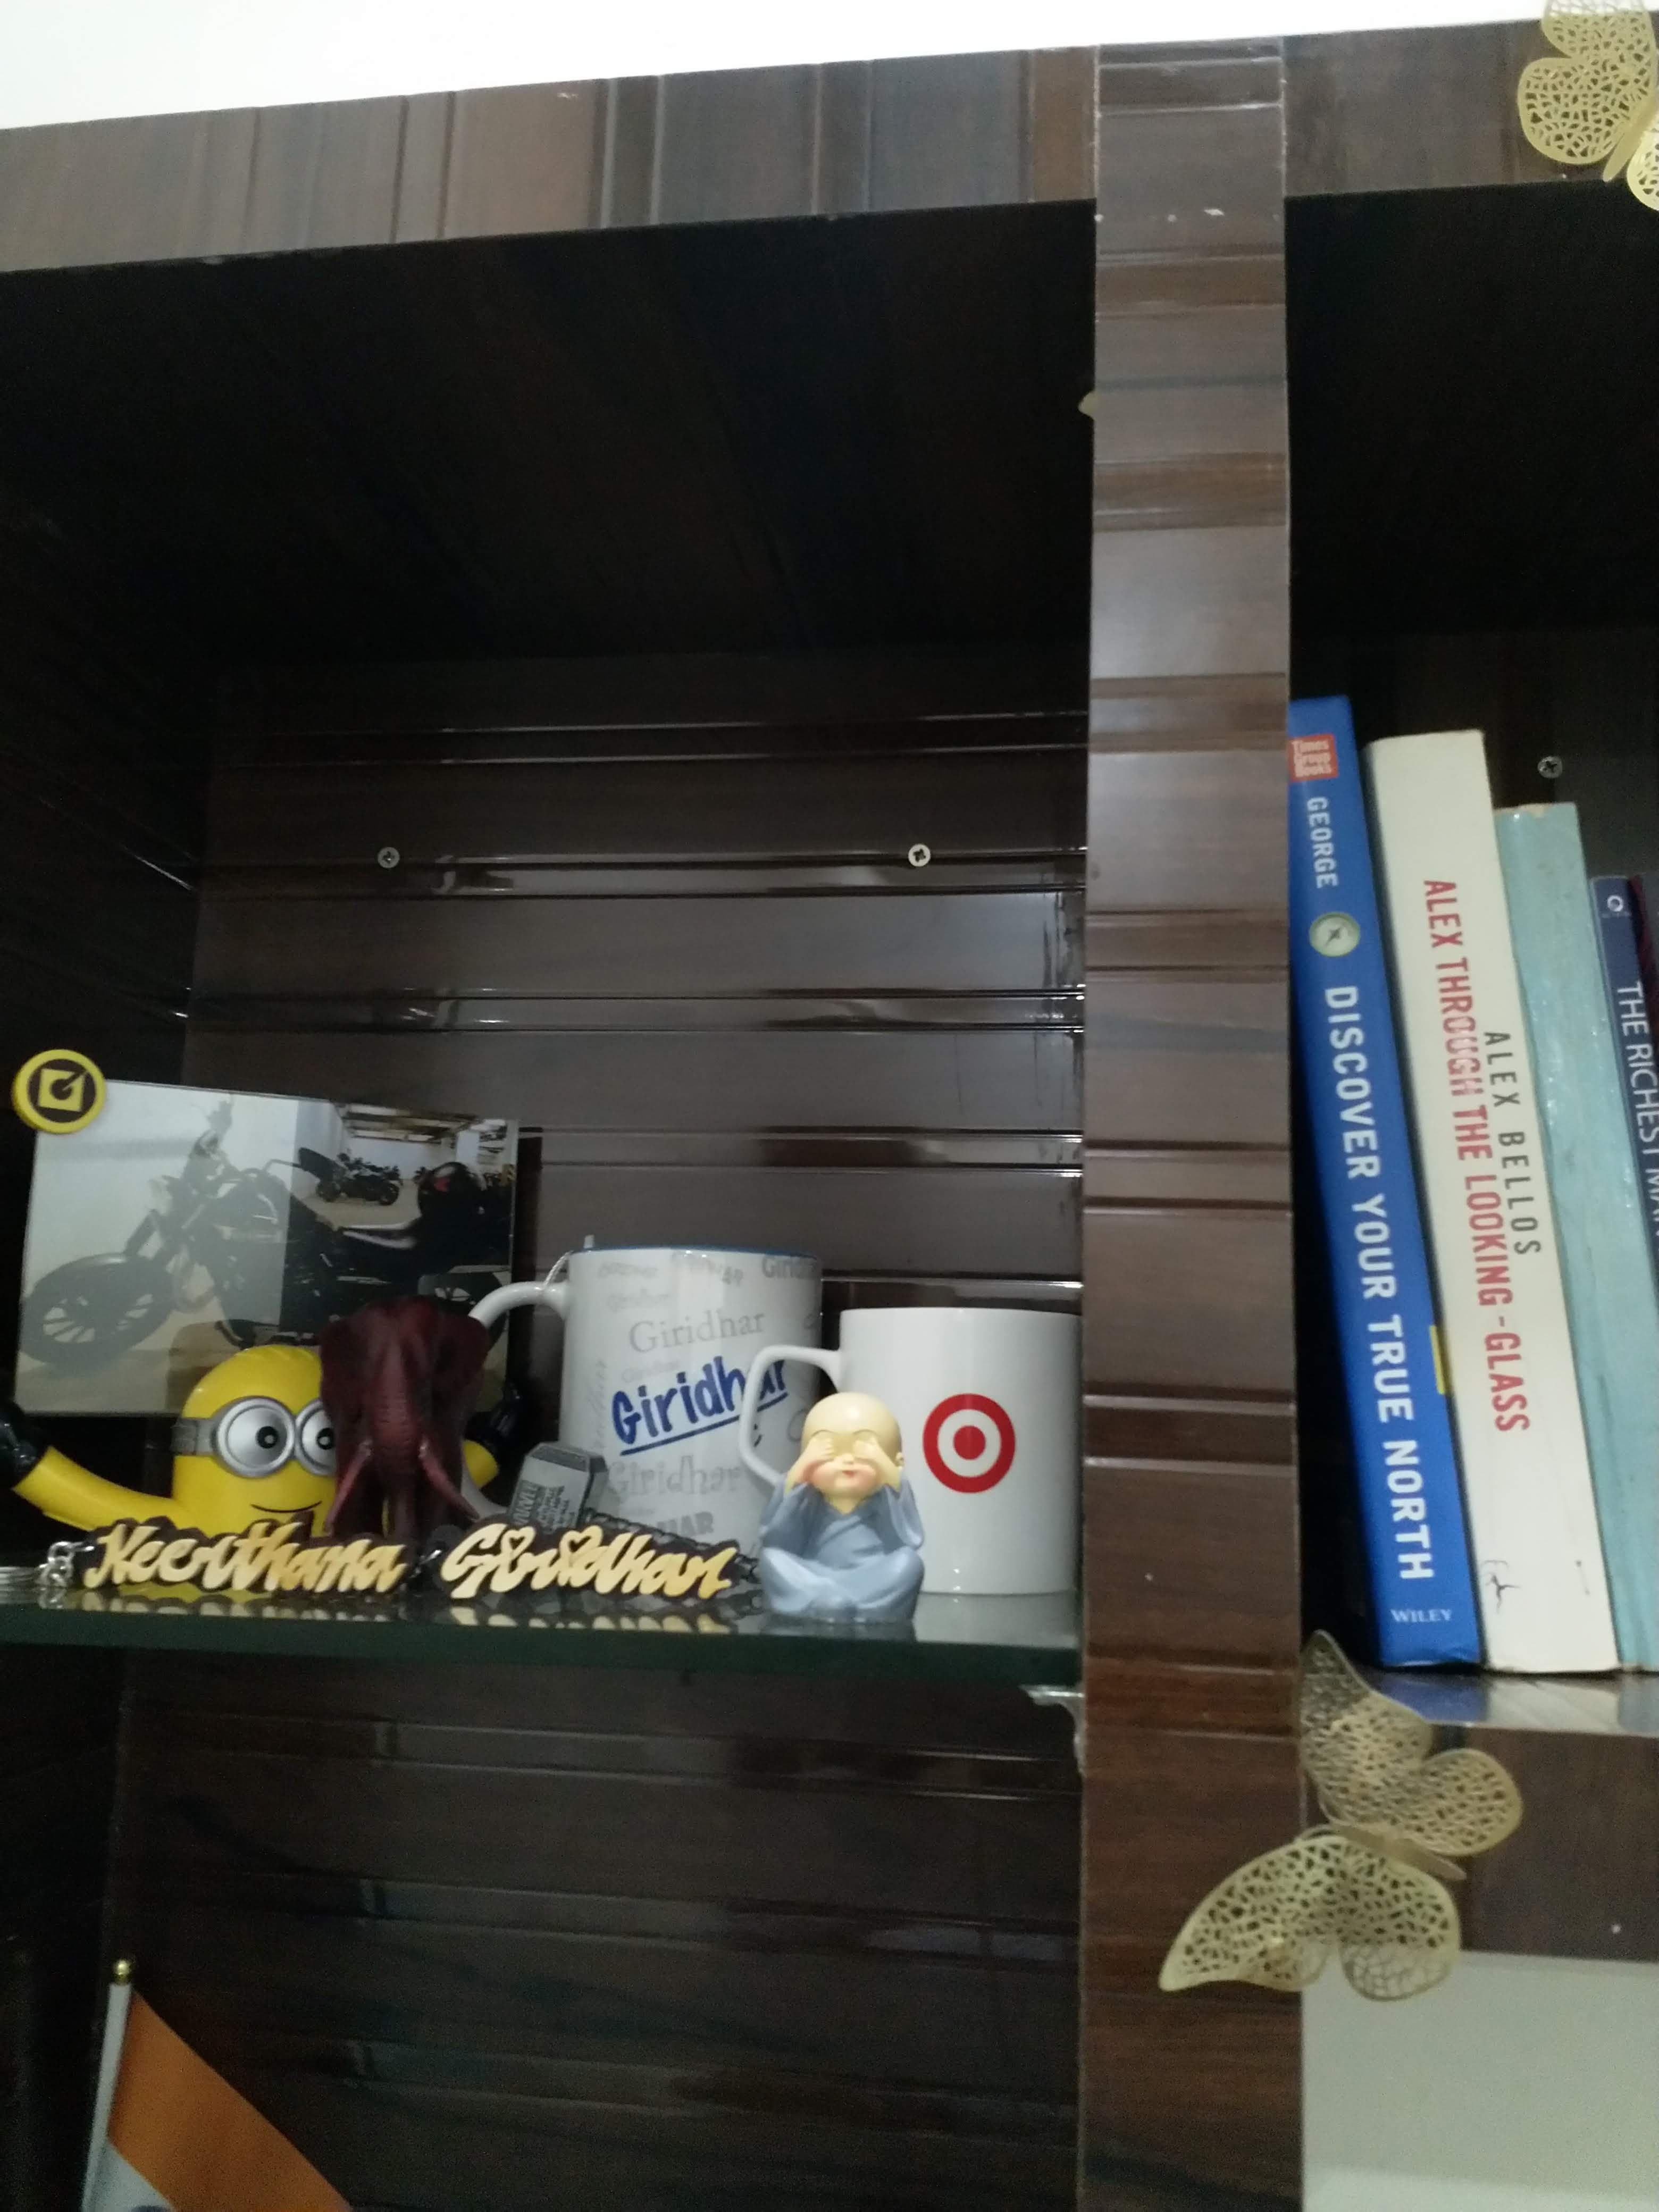bullseye: (920, 1388, 1026, 1494)
